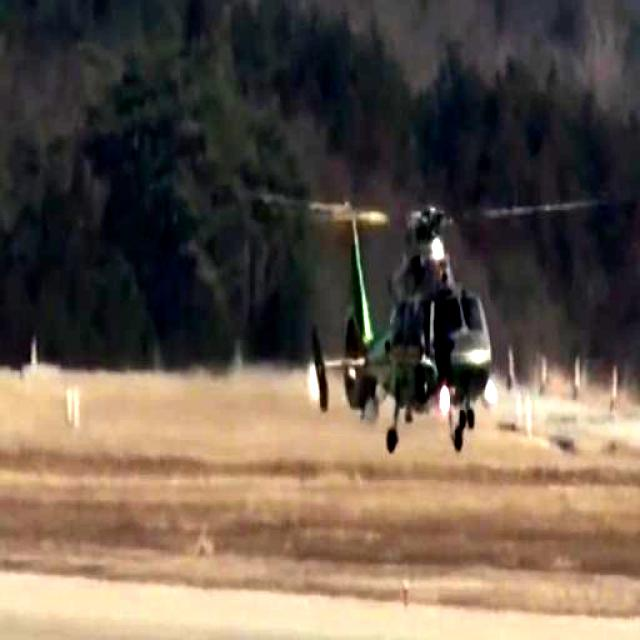drone: (295, 164, 521, 456)
